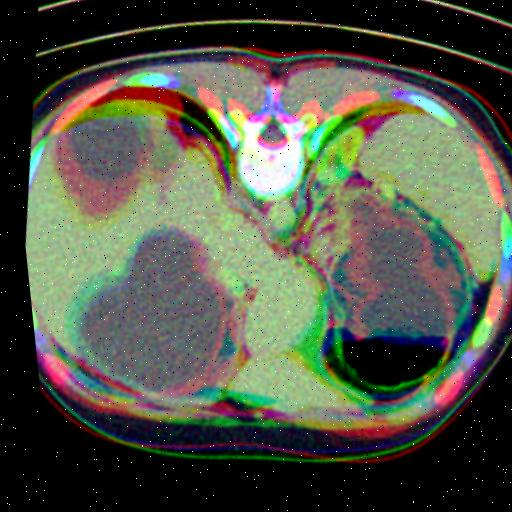Cyst: (72, 233, 227, 392), (51, 117, 148, 215)
